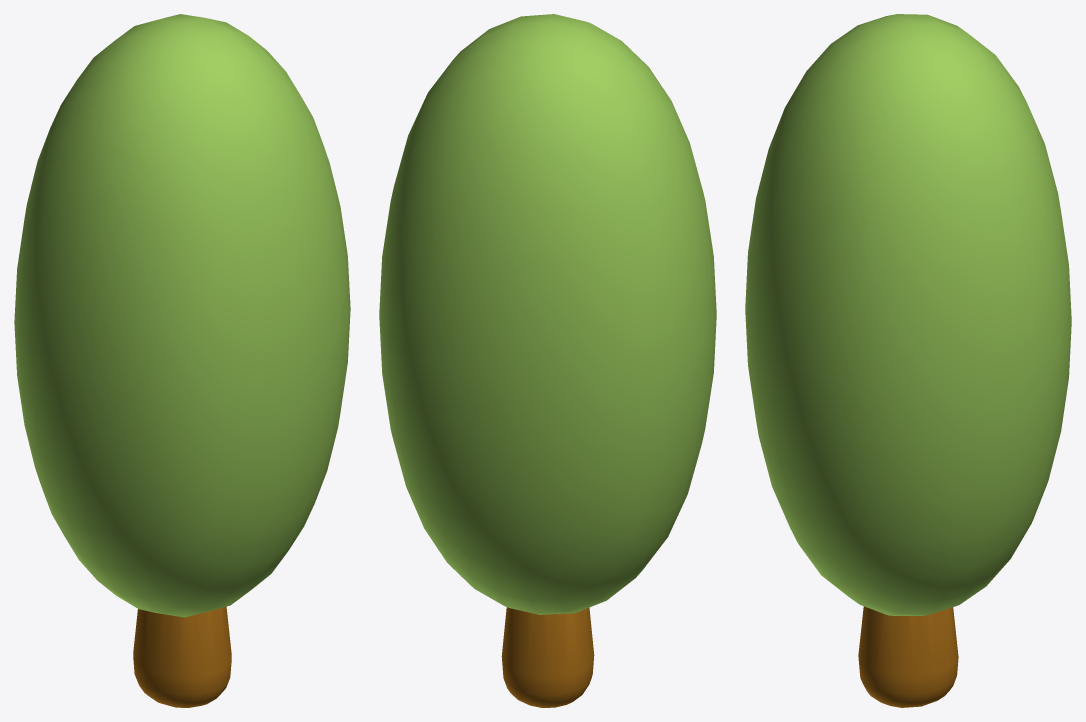
Rendered from Tree3.fbx.
The picture shows the model from 3 angles, left to right: view 1: azimuth 30°, elevation 25°; view 2: azimuth 150°, elevation 25°; view 3: azimuth 270°, elevation 25°; orthographic projection.
Visible parts, largest first — view 1: Tree3; view 2: Tree3; view 3: Tree3.
Part boxes in pixels (box(x1,y1,x2,y2)): Tree3: box(14, 14, 350, 707); Tree3: box(379, 14, 716, 707); Tree3: box(745, 14, 1071, 707).
Size of the model in its own units: 1.34 by 2.98 by 1.3.
